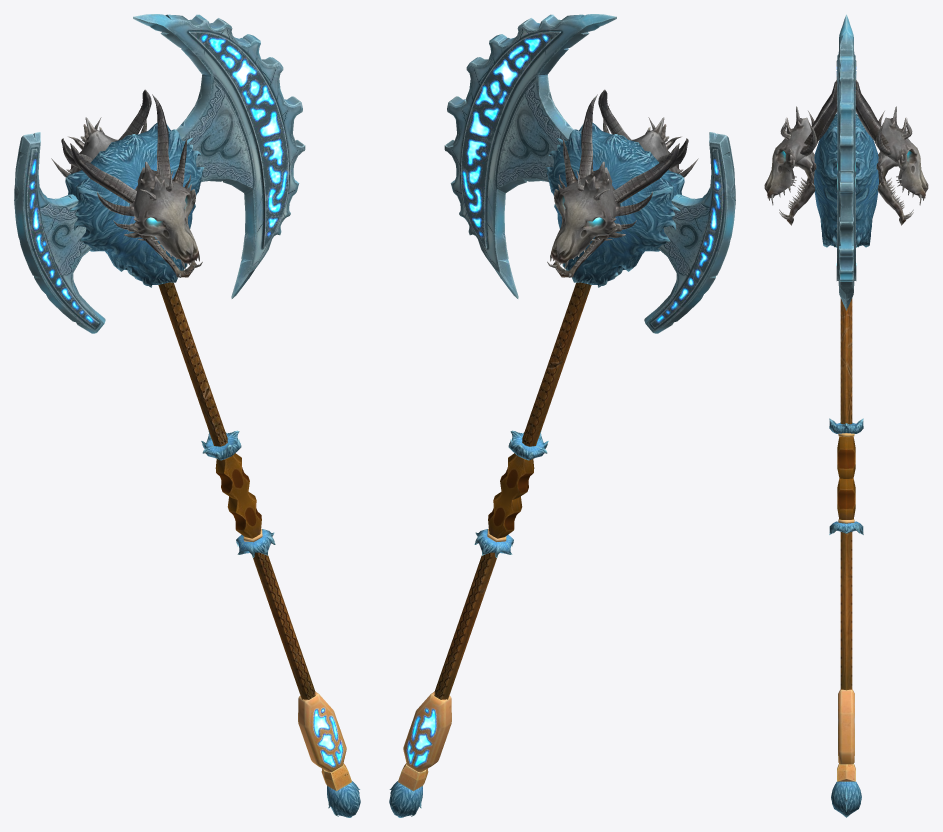
File: axe4.glb
3 views of the same model, side by side, from view 1: azimuth 30°, elevation 25°; view 2: azimuth 150°, elevation 25°; view 3: azimuth 270°, elevation 25° (orthographic). The views are drawn at different scales.
Parts seen in each view (by area): view 1: axe3_immortal; view 2: axe3_immortal; view 3: axe3_immortal.
Part boxes in pixels (bbox=[...]): axe3_immortal: bbox=[14, 14, 360, 817]; axe3_immortal: bbox=[389, 14, 735, 817]; axe3_immortal: bbox=[764, 14, 928, 817].
Size of the model in its own units: 29.57 by 69.87 by 14.53.
1 material, 1 textured.
